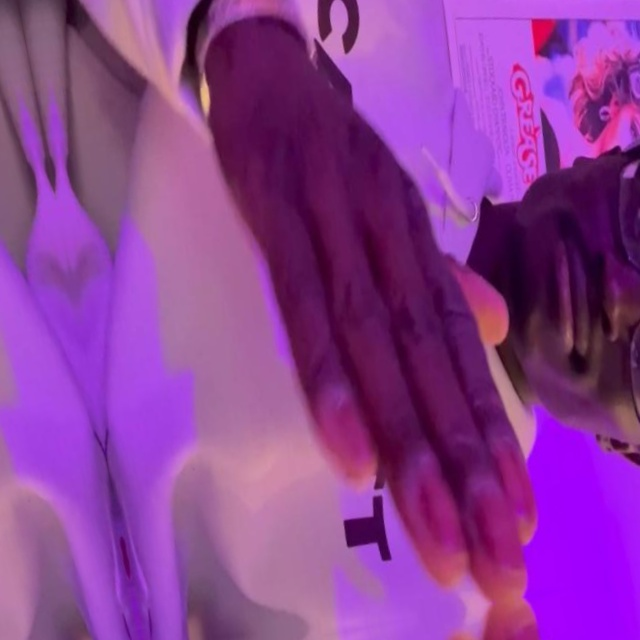Paper: (156, 0, 591, 640)
